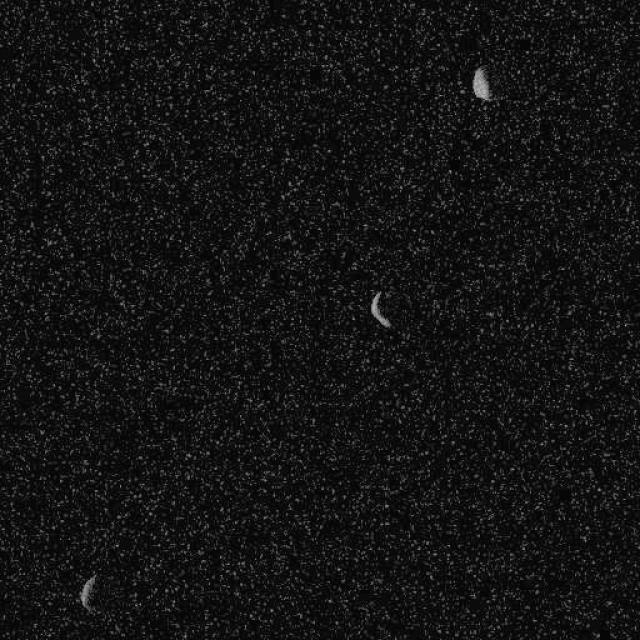D2: (368, 289, 392, 329), (78, 572, 98, 612), (471, 64, 491, 101)
